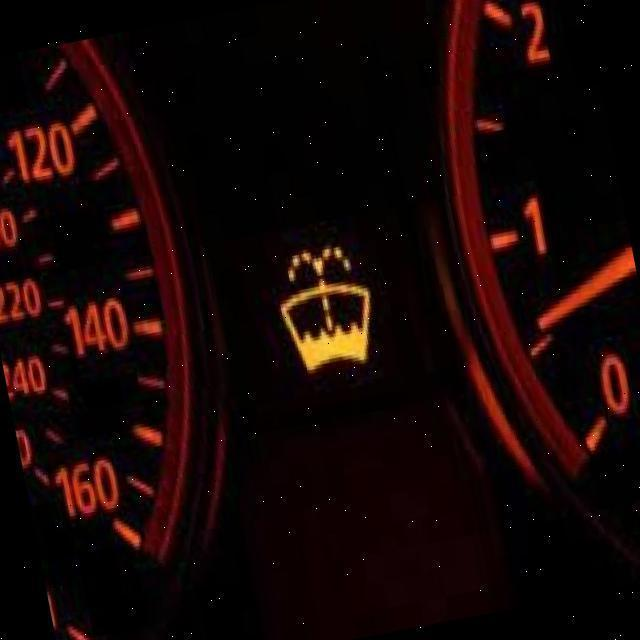Washer Fluid: (278, 245, 372, 374)
